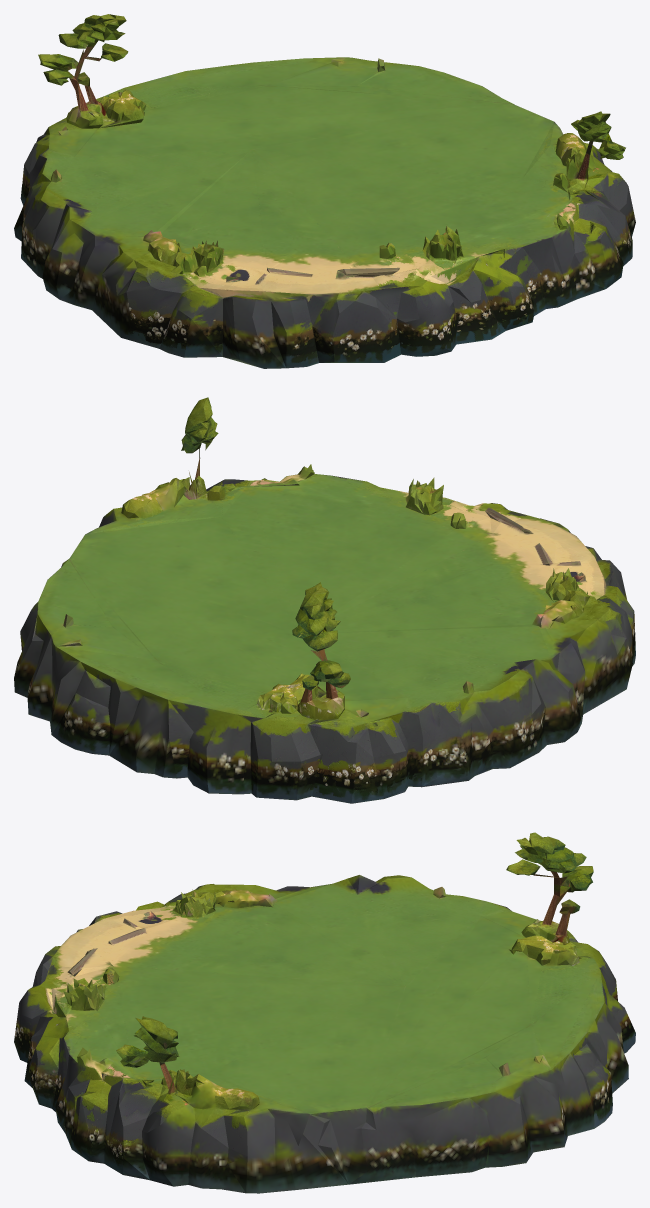
File: island.glb
3 renders of one model, top to bottom at view 1: azimuth 30°, elevation 25°; view 2: azimuth 150°, elevation 25°; view 3: azimuth 270°, elevation 25°, orthographic. The views are drawn at different scales.
Size of the model in its own units: 1.85 by 0.6012 by 1.9.
Materials: 1 (1 with a texture image).
